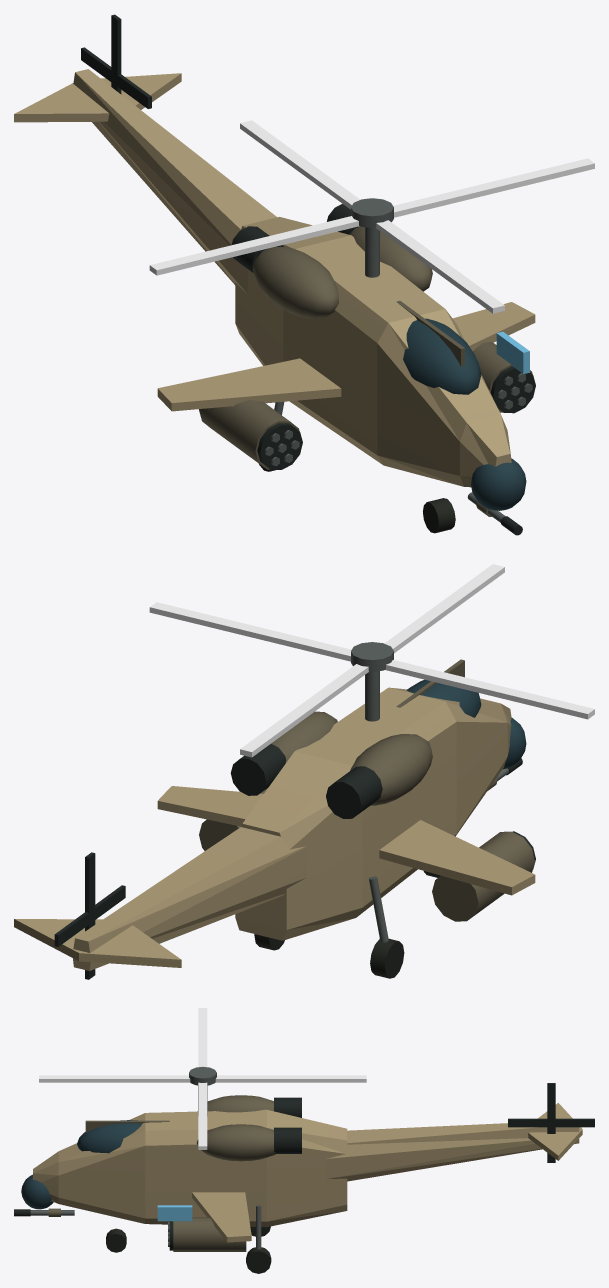
Rendered from casHeli.glb.
3 renders of one model, top to bottom at view 1: azimuth 30°, elevation 25°; view 2: azimuth 150°, elevation 25°; view 3: azimuth 270°, elevation 25°, orthographic. The views are drawn at different scales.
Parts seen in each view (by area): view 1: armor, equipment (×6), glass, marking; view 2: armor, equipment (×6), glass; view 3: armor, equipment (×6), glass, marking.
Boxes of the visible parts, bbox=[...] form: armor: bbox=[14, 69, 535, 487]; equipment (×6): bbox=[81, 14, 594, 533]; glass: bbox=[403, 318, 526, 510]; marking: bbox=[496, 331, 529, 374]; armor: bbox=[14, 687, 535, 970]; equipment (×6): bbox=[54, 564, 594, 979]; glass: bbox=[406, 676, 526, 769]; armor: bbox=[33, 1103, 582, 1242]; equipment (×6): bbox=[14, 1008, 594, 1273]; glass: bbox=[21, 1120, 141, 1209]; marking: bbox=[157, 1205, 192, 1221].
Size of the model in its own units: 4.7 by 2.86 by 8.34.
